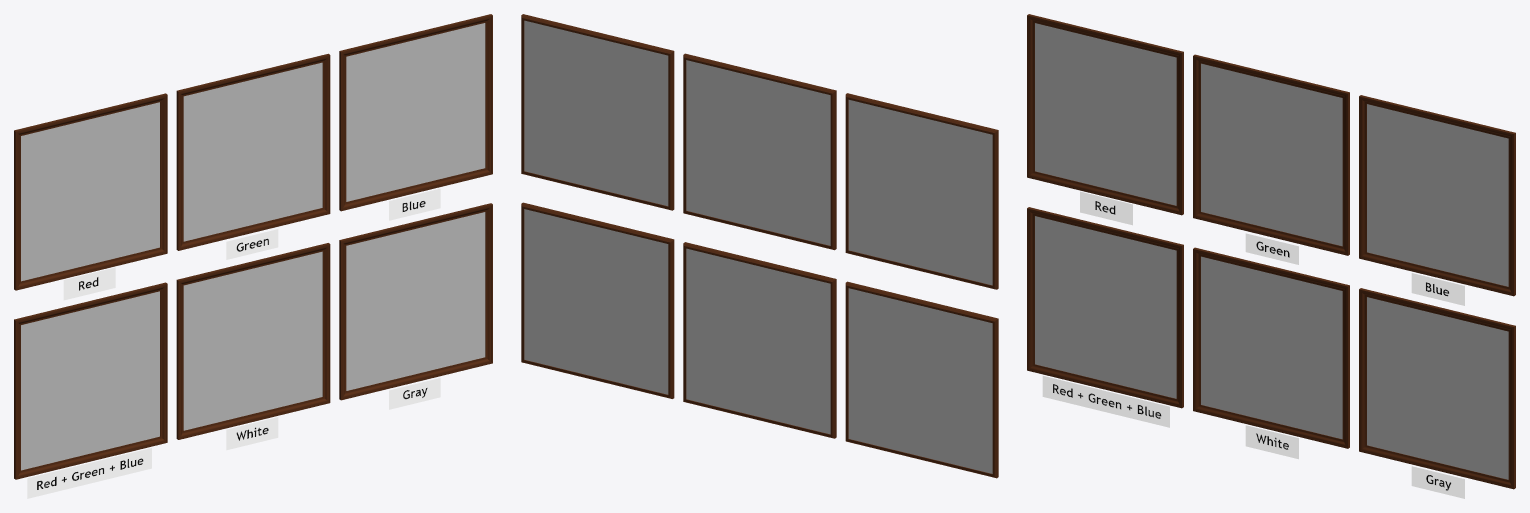
Rendered from PointLightIntensityTest.glb.
3 renders of one model, left to right at view 1: azimuth 30°, elevation 25°; view 2: azimuth 150°, elevation 25°; view 3: azimuth 330°, elevation 25°, orthographic. The views are drawn at different scales.
Visible parts, largest first — view 1: Test 4 - White, Test 2 - Green, Test 6 - RGB, Test 3 - Blue, Test 5 - Gray, Test 1 - Red, Labels; view 2: Test 3 - Blue, Test 4 - White, Test 1 - Red, Test 2 - Green, Test 5 - Gray, Test 6 - RGB; view 3: Test 4 - White, Test 2 - Green, Test 1 - Red, Test 5 - Gray, Test 3 - Blue, Test 6 - RGB, Labels.
Part boxes in pixels (bbox=[...]): Test 4 - White: bbox=[176, 243, 330, 439]; Test 2 - Green: bbox=[176, 53, 330, 250]; Test 6 - RGB: bbox=[14, 282, 167, 479]; Test 3 - Blue: bbox=[339, 14, 492, 211]; Test 5 - Gray: bbox=[339, 203, 492, 400]; Test 1 - Red: bbox=[14, 93, 167, 290]; Labels: bbox=[27, 188, 440, 498]; Test 3 - Blue: bbox=[521, 14, 674, 210]; Test 4 - White: bbox=[683, 242, 836, 438]; Test 1 - Red: bbox=[845, 93, 998, 289]; Test 2 - Green: bbox=[683, 53, 836, 250]; Test 5 - Gray: bbox=[521, 202, 674, 398]; Test 6 - RGB: bbox=[845, 281, 998, 478]; Test 4 - White: bbox=[1193, 247, 1349, 448]; Test 2 - Green: bbox=[1193, 54, 1349, 255]; Test 1 - Red: bbox=[1027, 14, 1183, 215]; Test 5 - Gray: bbox=[1359, 288, 1515, 489]; Test 3 - Blue: bbox=[1359, 95, 1515, 296]; Test 6 - RGB: bbox=[1027, 207, 1183, 408]; Labels: bbox=[1042, 191, 1464, 498].
Size of the model in its own units: 6.6 by 4.92 by 0.0634.
Materials: 3 (1 with a texture image).
